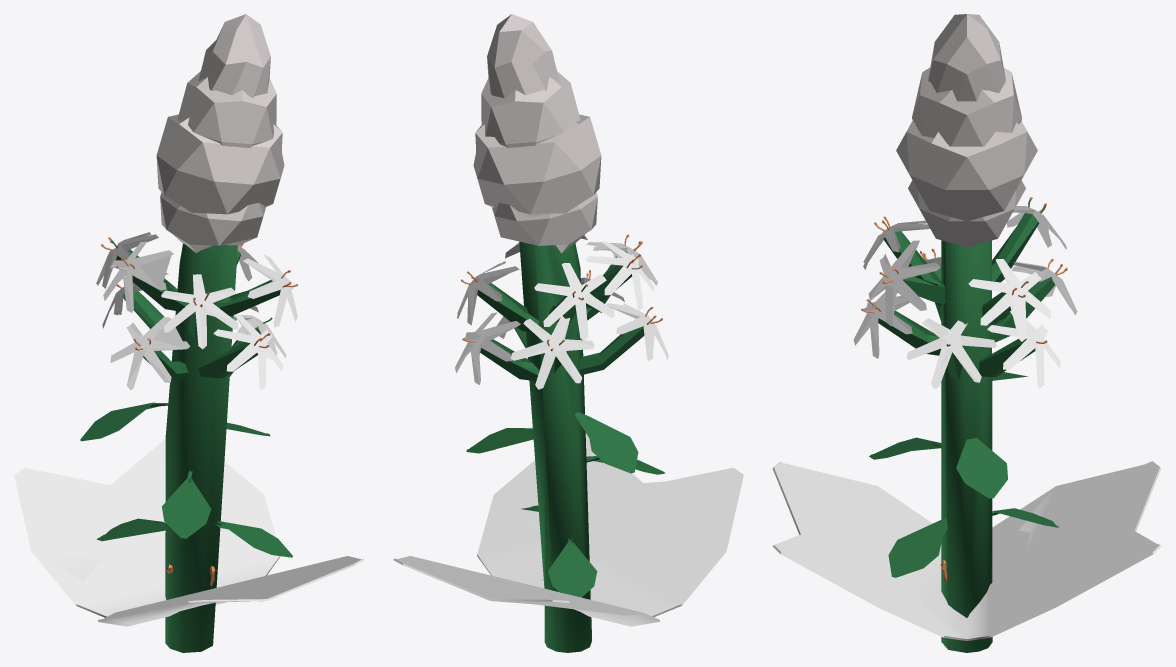
The model's file is opt_Asphodel.fbx.
3 views of the same model, side by side, from view 1: azimuth 30°, elevation 25°; view 2: azimuth 150°, elevation 25°; view 3: azimuth 270°, elevation 25° (orthographic). The views are drawn at different scales.
Parts seen in each view (by area): view 1: Leaf_bottom; view 2: Leaf_bottom; view 3: Leaf_bottom.
Boxes of the visible parts, <box> form: Leaf_bottom: <box>14,14,364,652</box>; Leaf_bottom: <box>393,14,743,652</box>; Leaf_bottom: <box>772,14,1161,652</box>.
Size of the model in its own units: 535 by 1350 by 723.
